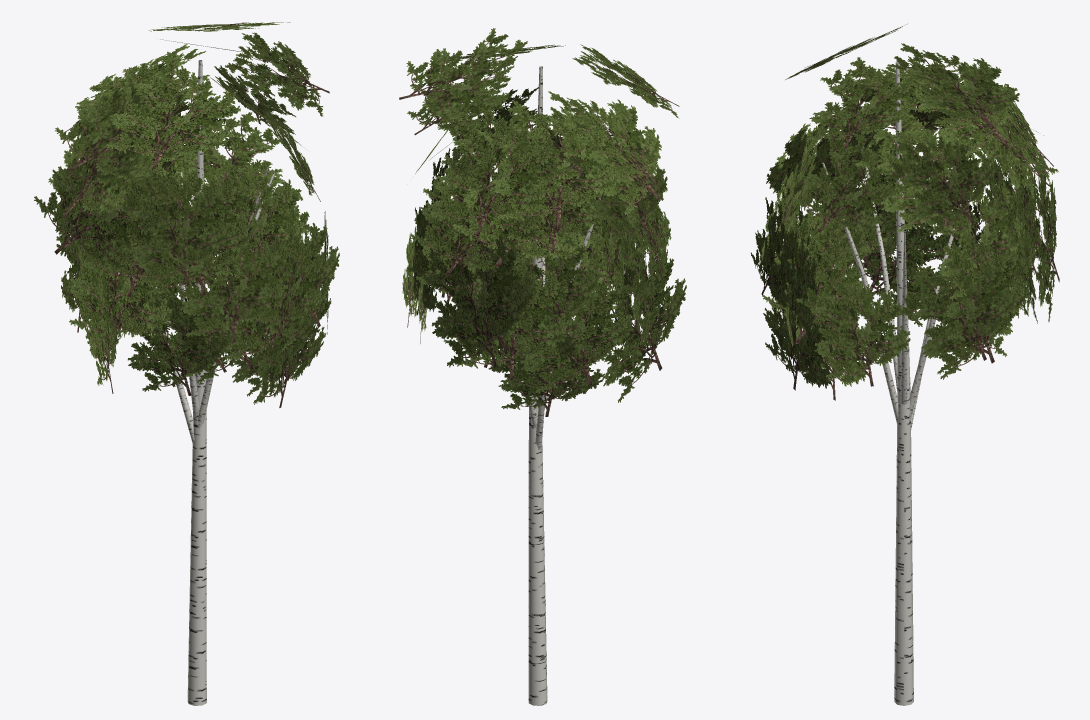
Rendered from tree_birch.obj.
3 views of the same model, side by side, from view 1: azimuth 30°, elevation 25°; view 2: azimuth 150°, elevation 25°; view 3: azimuth 270°, elevation 25° (orthographic).
Visible parts, largest first — view 1: Birch_Branches, Birch_BirchBark; view 2: Birch_Branches, Birch_BirchBark; view 3: Birch_Branches, Birch_BirchBark.
Boxes of the visible parts, bbox=[...] form: Birch_Branches: bbox=[34, 22, 339, 407]; Birch_BirchBark: bbox=[116, 60, 274, 705]; Birch_Branches: bbox=[399, 28, 686, 416]; Birch_BirchBark: bbox=[528, 66, 600, 705]; Birch_Branches: bbox=[751, 24, 1059, 400]; Birch_BirchBark: bbox=[822, 61, 973, 705].
Bounding box in the file's own units: 4.86 × 11.27 × 5.12.
2 materials, 2 textured.
